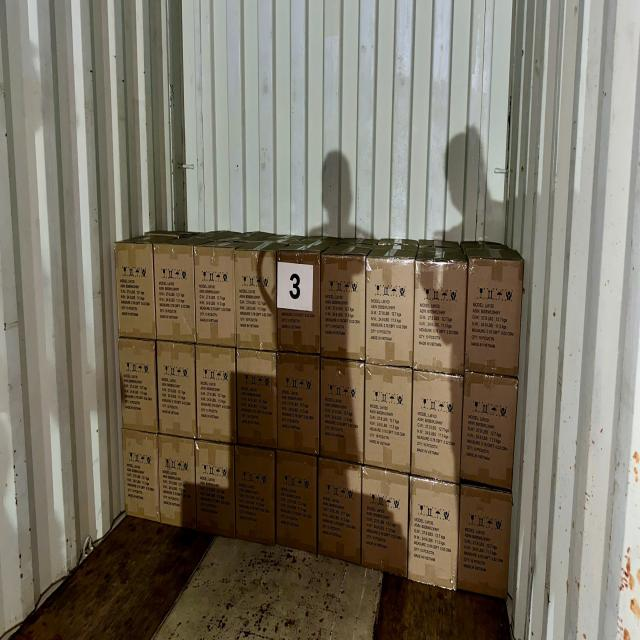Carton: (469, 257, 523, 374), (462, 373, 515, 489), (416, 258, 467, 373), (462, 485, 513, 598), (413, 373, 463, 484), (408, 481, 458, 592), (364, 260, 412, 369), (364, 362, 411, 471), (360, 473, 407, 582), (321, 256, 368, 363), (276, 247, 320, 358), (321, 460, 365, 566), (322, 358, 368, 458), (237, 246, 279, 350), (275, 452, 318, 552), (277, 353, 320, 452), (195, 245, 237, 344), (116, 241, 158, 339), (234, 349, 276, 446), (233, 451, 274, 547), (196, 345, 236, 443), (158, 244, 198, 342), (156, 341, 196, 437), (197, 441, 236, 535), (120, 341, 159, 434), (122, 433, 160, 525), (157, 438, 194, 530)
